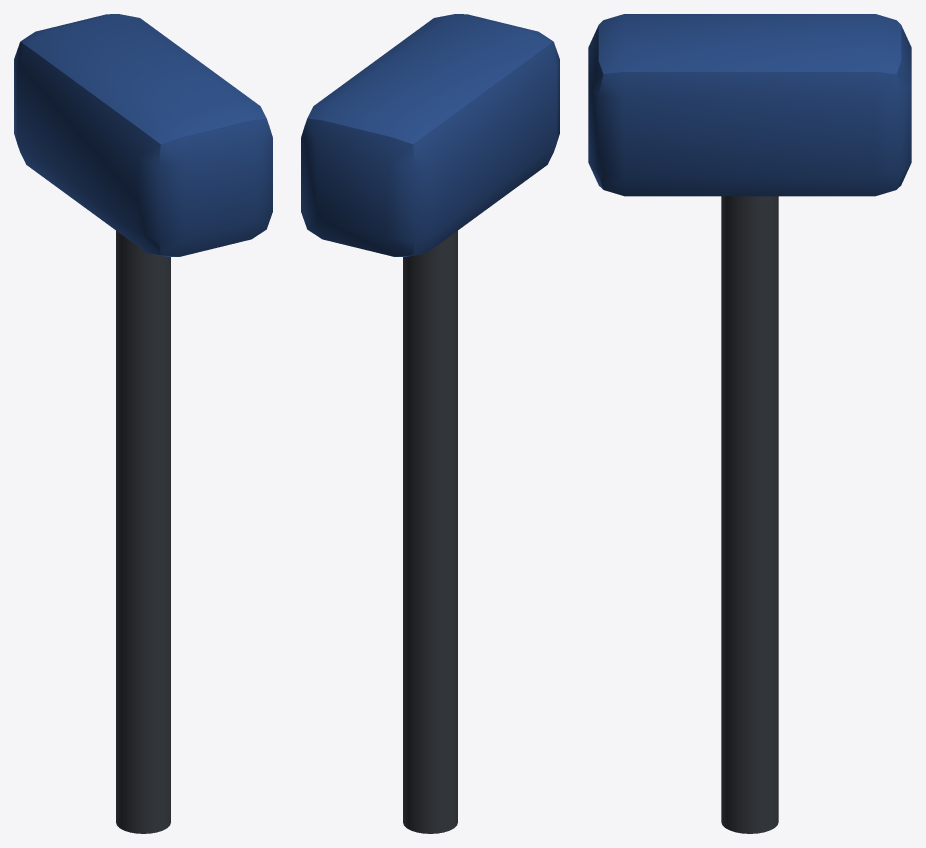
File: mailbox.glb
3 views of the same model, side by side, from view 1: azimuth 30°, elevation 25°; view 2: azimuth 150°, elevation 25°; view 3: azimuth 270°, elevation 25° (orthographic). The views are drawn at different scales.
Parts seen in each view (by area): view 1: mailbox; view 2: mailbox; view 3: mailbox.
Boxes of the visible parts, x1=… form: mailbox: x1=14, y1=14, x2=272, y2=833; mailbox: x1=301, y1=14, x2=559, y2=833; mailbox: x1=588, y1=14, x2=911, y2=833.
Size of the model in its own units: 0.22 by 1.21 by 0.45.
